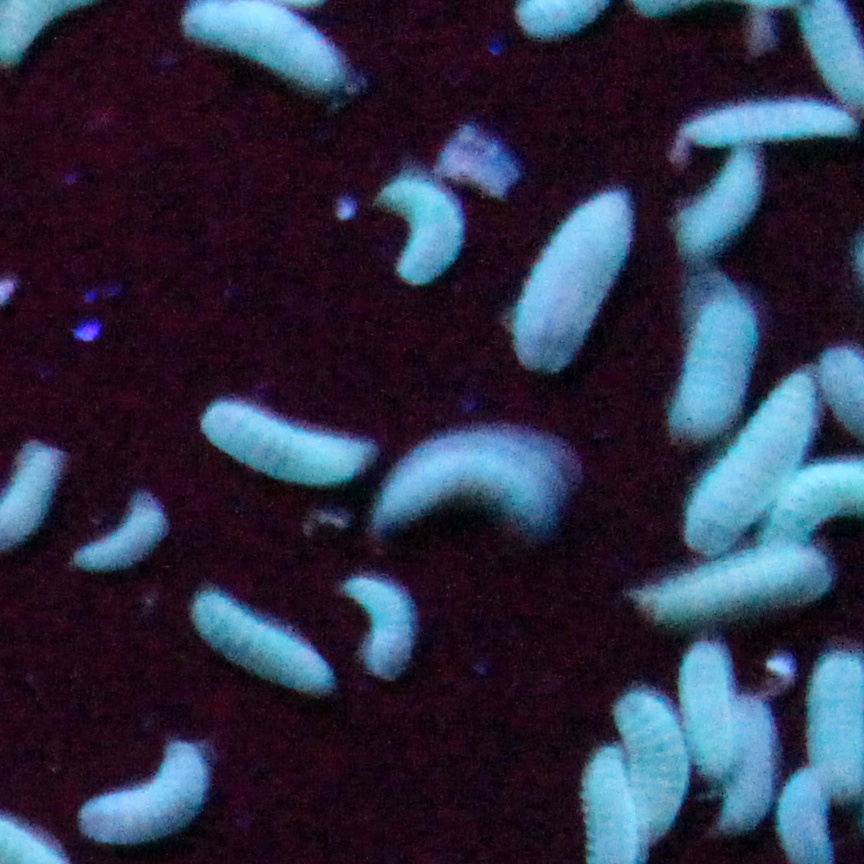larve: (682, 376, 825, 553), (516, 195, 632, 367), (383, 437, 559, 536), (180, 5, 346, 100), (194, 588, 330, 702), (666, 279, 760, 441), (209, 391, 366, 484), (636, 555, 830, 630), (615, 689, 690, 842), (88, 744, 206, 840), (678, 153, 773, 258), (801, 642, 861, 805), (381, 171, 458, 280), (344, 572, 416, 686), (675, 635, 731, 777), (682, 99, 854, 145), (77, 498, 162, 568), (727, 697, 767, 835)
